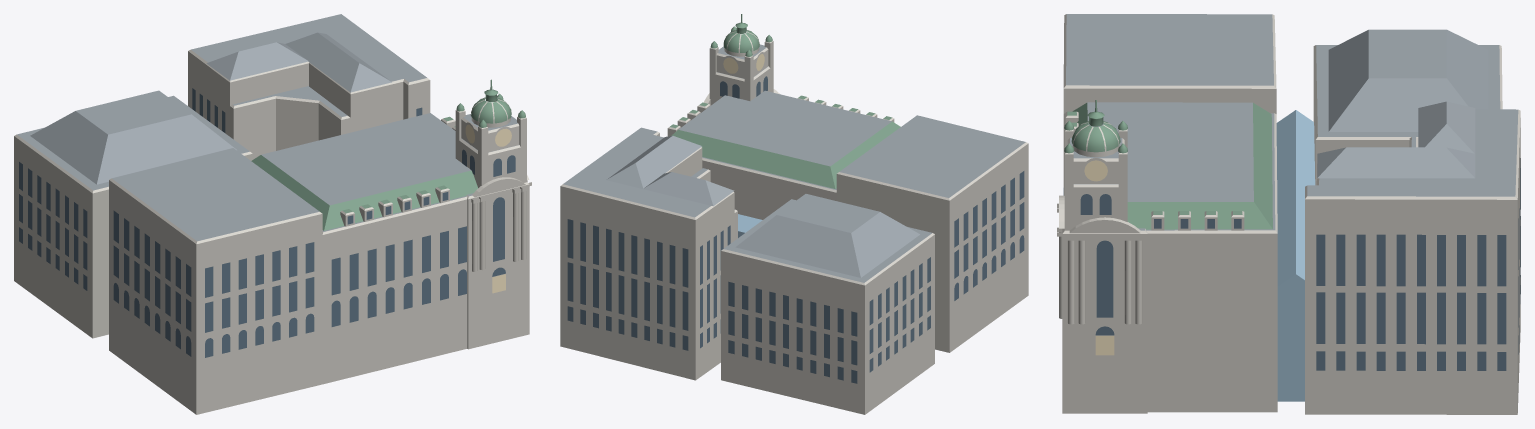
The model's file is van-sinclair-centre.glb.
The picture shows the model from 3 angles, left to right: view 1: azimuth 30°, elevation 25°; view 2: azimuth 150°, elevation 25°; view 3: azimuth 270°, elevation 25°; orthographic projection. The views are drawn at different scales.
Visible parts, largest first — view 1: Sinclair Centre; view 2: Sinclair Centre; view 3: Sinclair Centre.
Part boxes in pixels (x1,y1,x2,y2): Sinclair Centre: [14, 14, 531, 414]; Sinclair Centre: [560, 14, 1028, 414]; Sinclair Centre: [1057, 14, 1520, 414].
Bounding box in the file's own units: 78.64 × 55.81 × 78.42.
